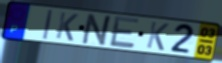2: (168, 22, 198, 57)
E: (108, 16, 141, 50)
I: (42, 9, 54, 41)
K: (145, 20, 171, 52), (54, 11, 80, 42)
N: (80, 13, 115, 48)
